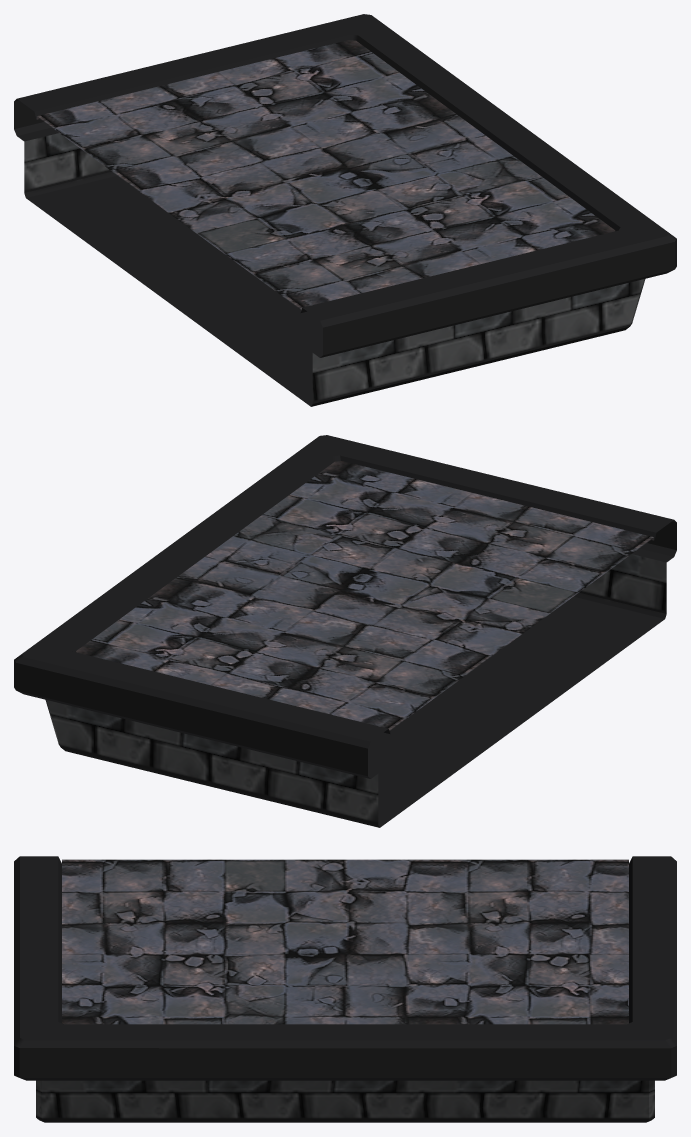
The model's file is M_Platform_module_left.fbx.
The picture shows the model from 3 angles, top to bottom: view 1: azimuth 30°, elevation 25°; view 2: azimuth 150°, elevation 25°; view 3: azimuth 270°, elevation 25°; orthographic projection. The views are drawn at different scales.
Visible parts, largest first — view 1: M_Platform_module_left; view 2: M_Platform_module_left; view 3: M_Platform_module_left.
Part boxes in pixels (x1=…): M_Platform_module_left: x1=14, y1=14, x2=676, y2=406; M_Platform_module_left: x1=14, y1=435, x2=676, y2=827; M_Platform_module_left: x1=14, y1=856, x2=676, y2=1122.
Size of the model in its own units: 200 by 49.7 by 300.
